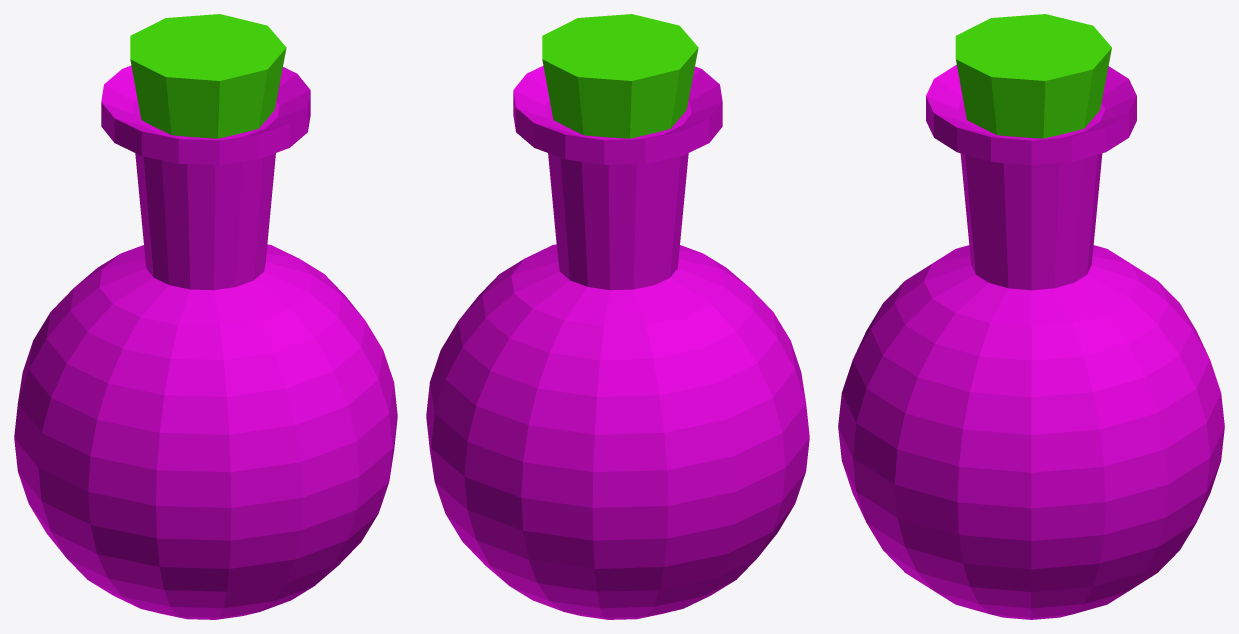
Rendered from Low-Bottle-3.fbx.
3 renders of one model, left to right at view 1: azimuth 30°, elevation 25°; view 2: azimuth 150°, elevation 25°; view 3: azimuth 270°, elevation 25°, orthographic.
Parts seen in each view (by area): view 1: Low-Bottle_3, Low-Kork-3; view 2: Low-Bottle_3, Low-Kork-3; view 3: Low-Bottle_3, Low-Kork-3.
Boxes of the visible parts, <box> form: Low-Bottle_3: <box>14,65,397,619</box>; Low-Kork-3: <box>130,14,286,138</box>; Low-Bottle_3: <box>426,66,809,619</box>; Low-Kork-3: <box>542,14,698,138</box>; Low-Bottle_3: <box>838,64,1224,619</box>; Low-Kork-3: <box>955,14,1111,138</box>.
Size of the model in its own units: 200 by 310 by 200.
